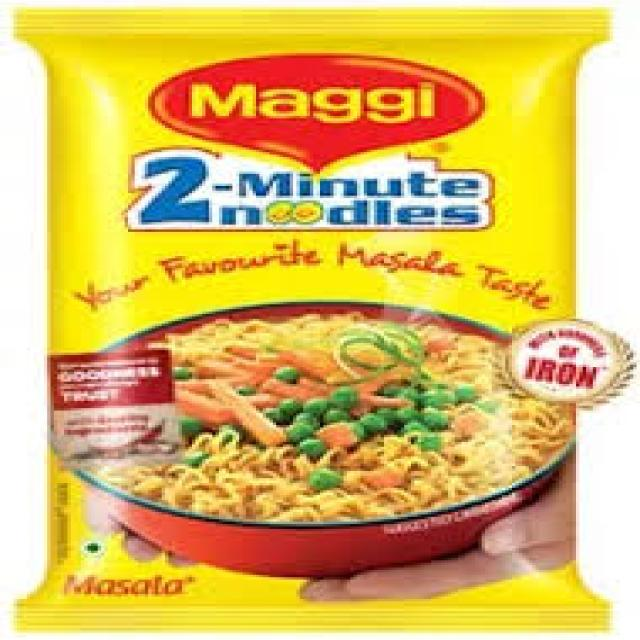maggi: (18, 6, 638, 628)
